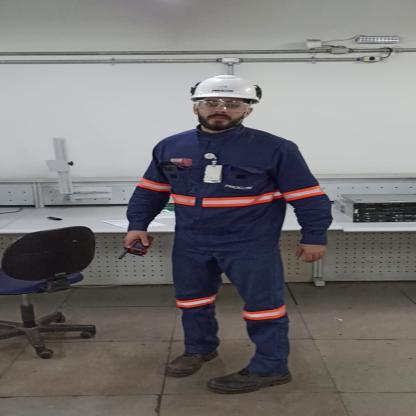Capacete: (187, 73, 268, 101)
